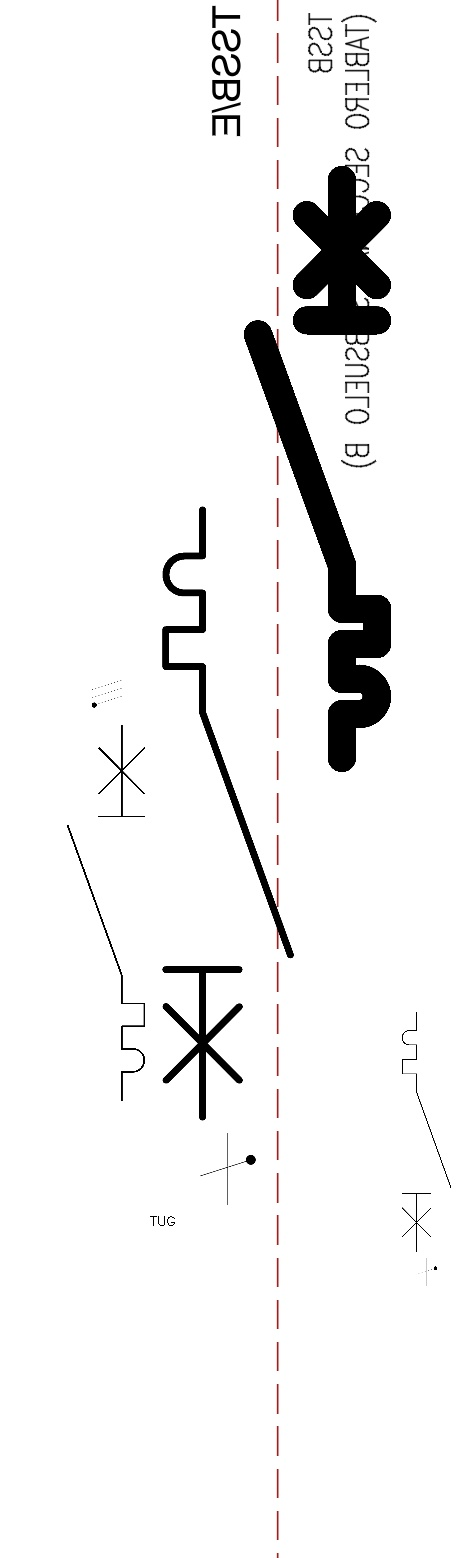interruptor_termomagnetico: (150, 494, 306, 1133), (243, 165, 392, 773), (58, 715, 154, 1109), (396, 1006, 457, 1258)
